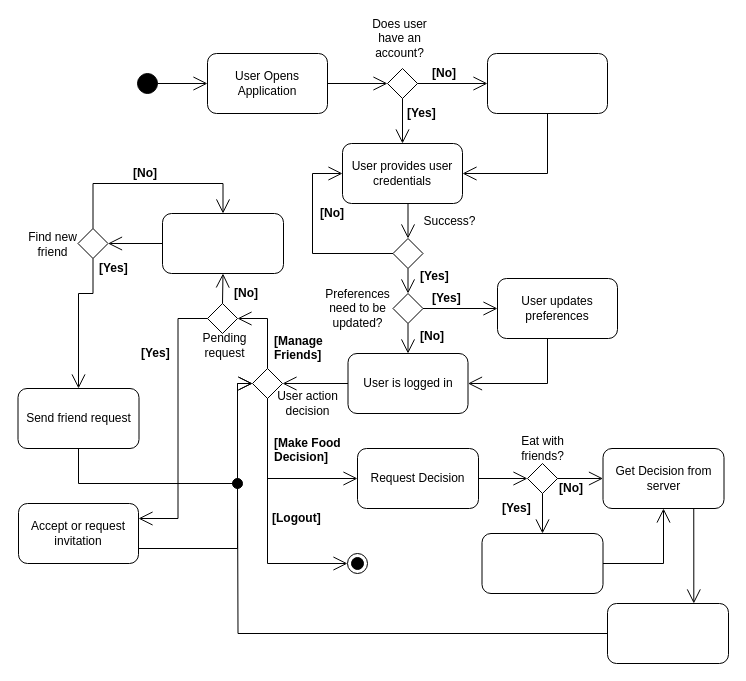
Some shapes in this 746 by 681 pixel diagram are drawn without their labels. The shapes that lost their labels are listed below. From the top down, each one's box as (x1, y1, x2, y2) in pixels, then its label:
(486, 52, 608, 114): User creates a new account
(162, 212, 284, 274): Search Users
(481, 532, 603, 594): Invite friends to eat
(606, 602, 728, 664): Accept or reject decision
